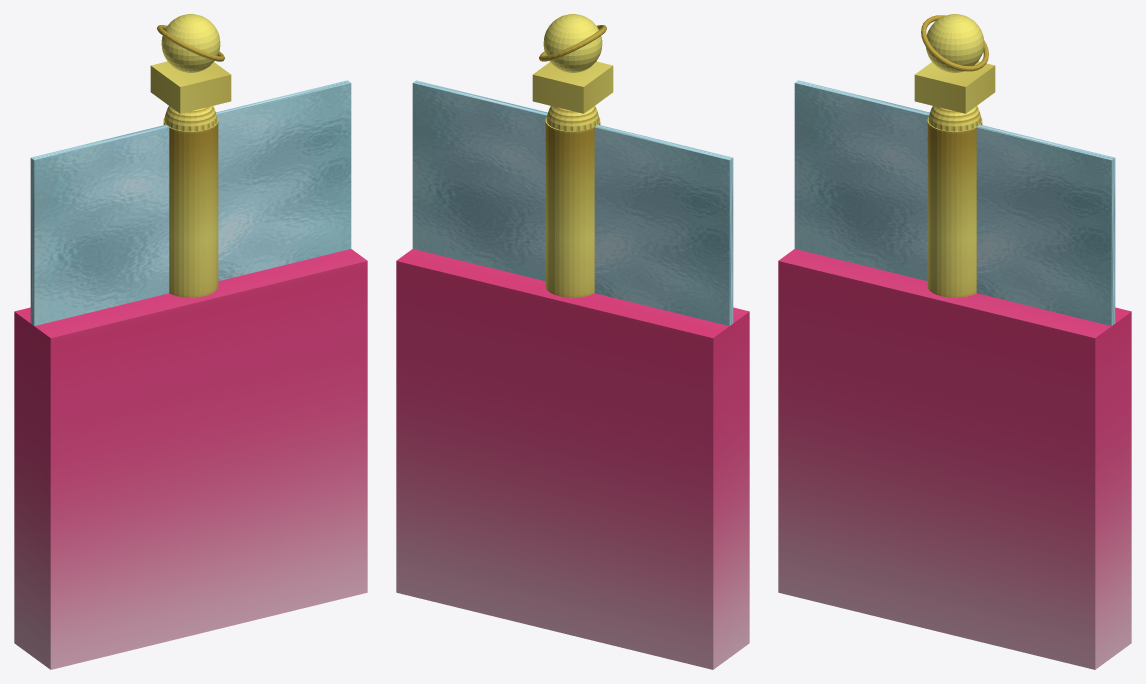
File: partition.fbx
3 views of the same model, side by side, from view 1: azimuth 30°, elevation 25°; view 2: azimuth 150°, elevation 25°; view 3: azimuth 330°, elevation 25° (orthographic).
Parts seen in each view (by area): view 1: partition, glass, Cylinder; view 2: partition, glass, Cylinder; view 3: partition, glass, Cylinder.
Boxes of the visible parts, x1,y1,x2,y2 form: partition: [14, 249, 367, 669]; glass: [30, 80, 351, 325]; Cylinder: [150, 14, 231, 297]; partition: [396, 249, 749, 669]; glass: [412, 80, 733, 325]; Cylinder: [532, 14, 613, 297]; partition: [778, 249, 1131, 669]; glass: [794, 80, 1115, 325]; Cylinder: [914, 14, 995, 297].
Bounding box in the file's own units: 62 × 112 × 12.7.
Materials: 3 (3 with a texture image).
